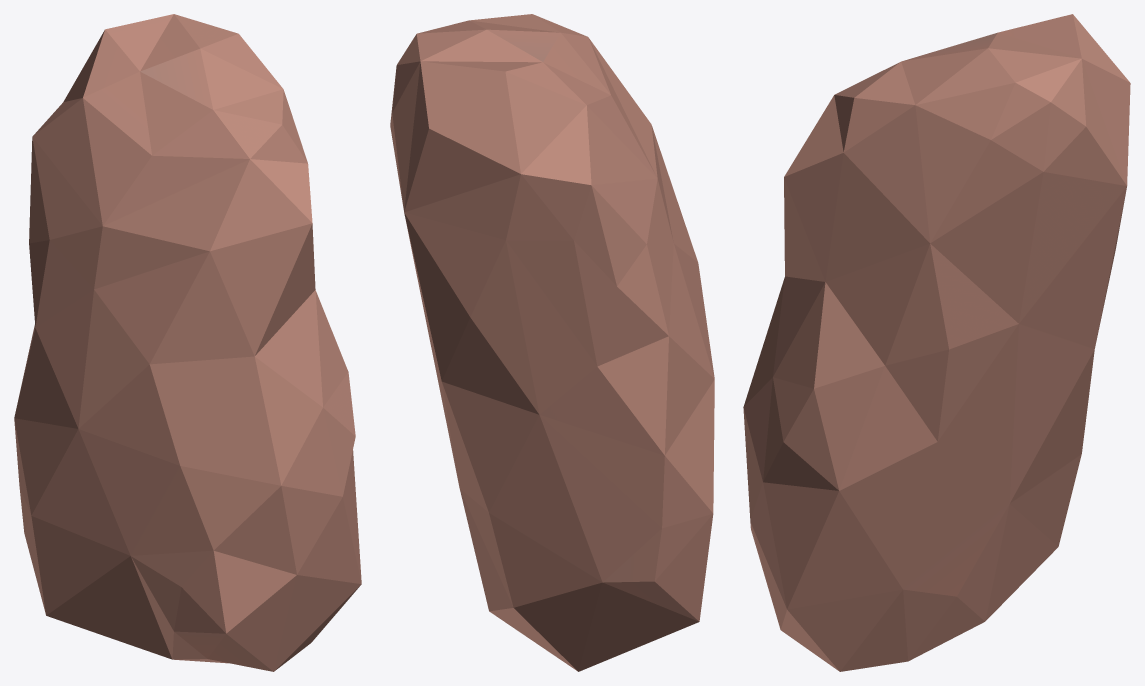
File: boulder_015.fbx
The picture shows the model from 3 angles, left to right: view 1: azimuth 30°, elevation 25°; view 2: azimuth 150°, elevation 25°; view 3: azimuth 270°, elevation 25°; orthographic projection. The views are drawn at different scales.
Parts seen in each view (by area): view 1: boulder_015; view 2: boulder_015; view 3: boulder_015.
Part boxes in pixels (x1,y1,x2,y2): boulder_015: (14, 14, 361, 671); boulder_015: (390, 14, 714, 671); boulder_015: (743, 14, 1130, 671).
Bounding box in the file's own units: 875 × 997 × 1765.
